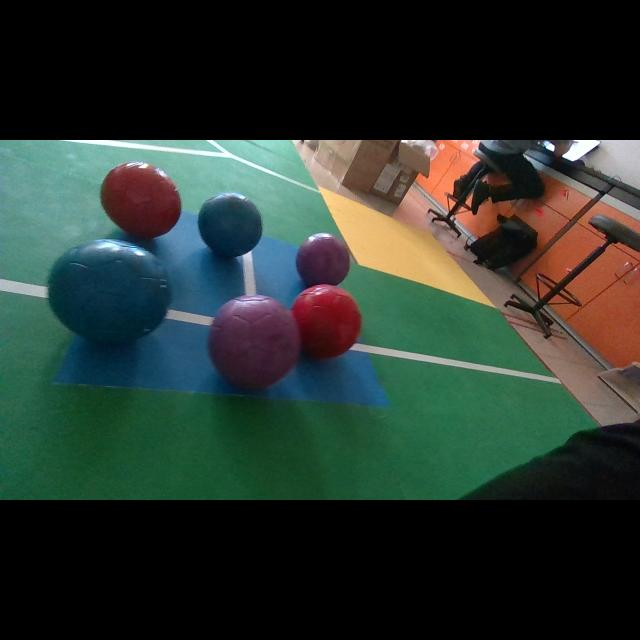B: (48, 239, 170, 343), (199, 192, 262, 257)
P: (209, 295, 301, 389), (296, 234, 350, 288)
R: (100, 161, 181, 239), (291, 284, 361, 358)
